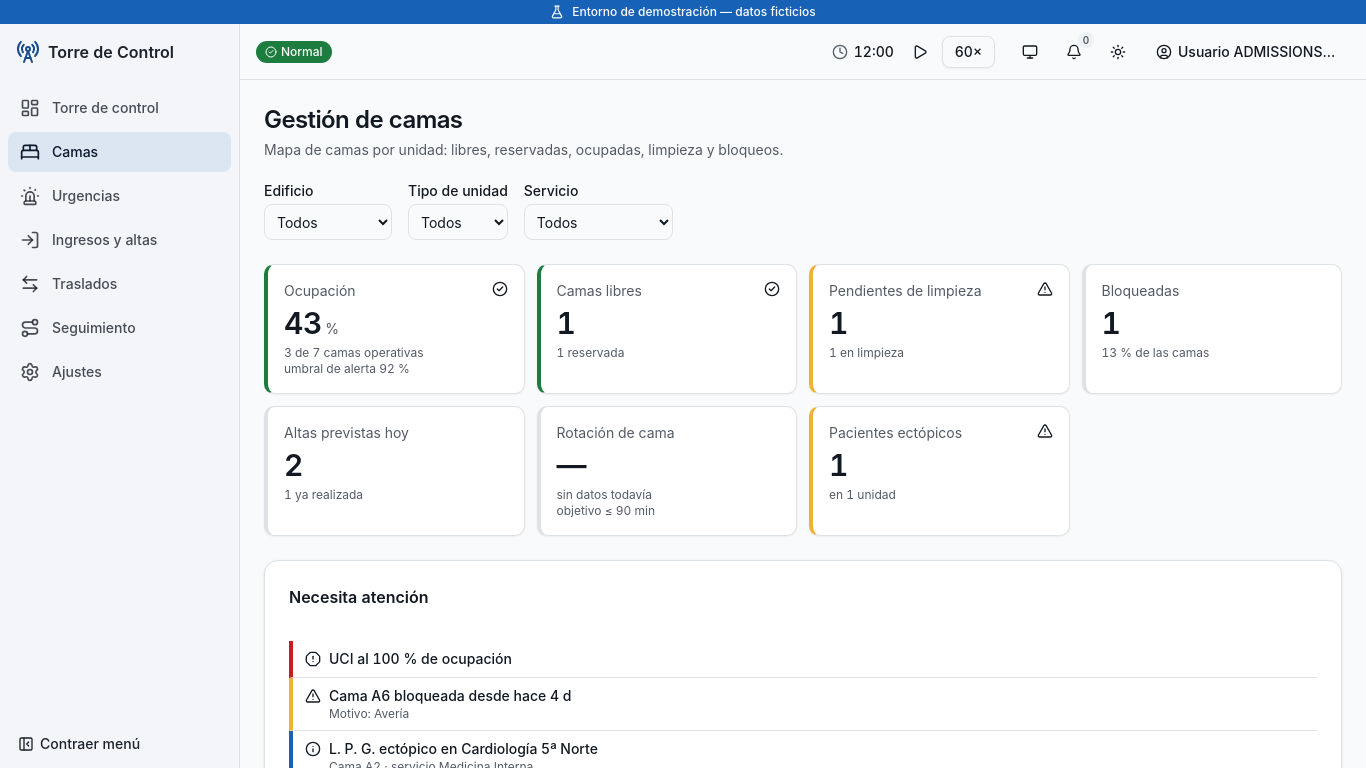
Test: BedsPage (census) › shows a message when no unit matches
The width and height of the screenshot is (1366, 768).
Expected: the list named "Indicadores de camas" is shown, [264,264,1342,536]
Select "Edificio Sur" in the dropdown labelled "Edificio": (328,222) [264,204,392,240]
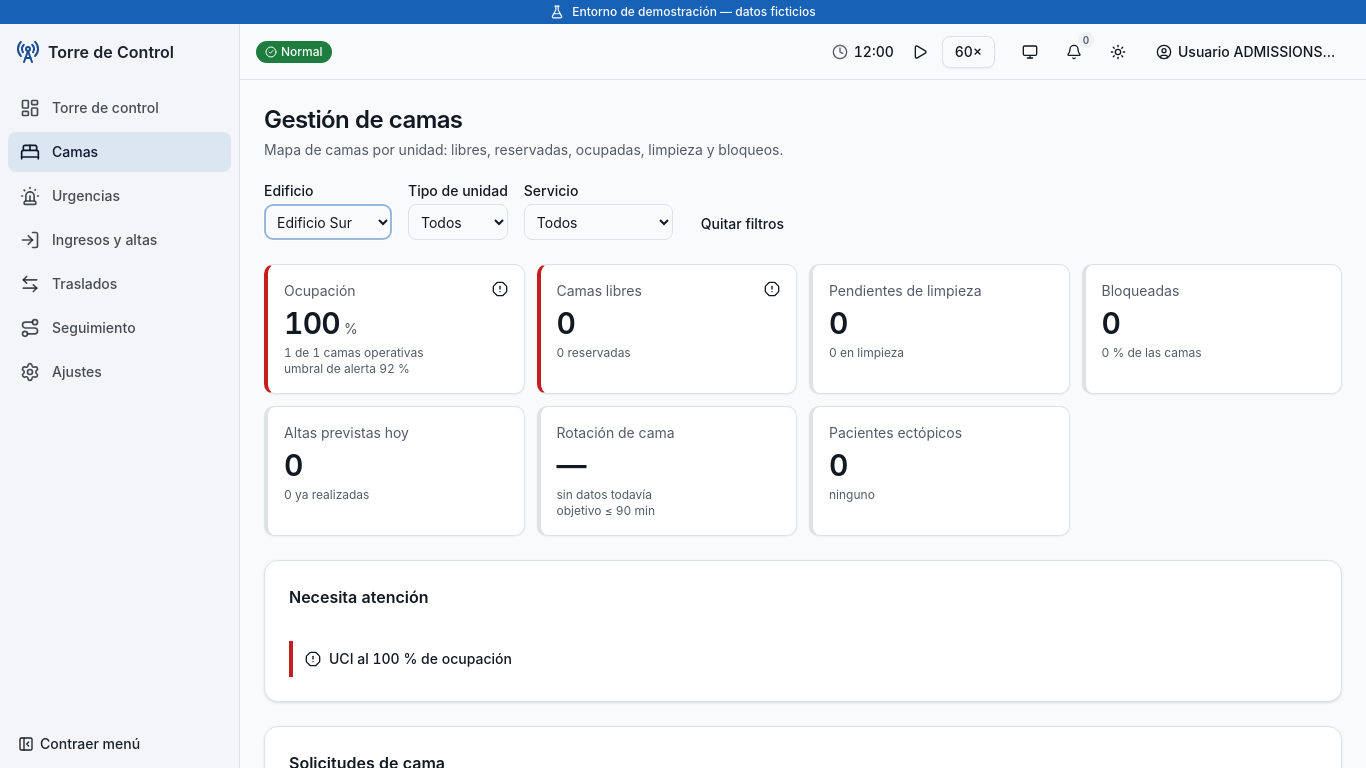
Select "Planta" in the dropdown labelled "Tipo de unidad": (458,222) [408,204,508,240]
(page scrolled)
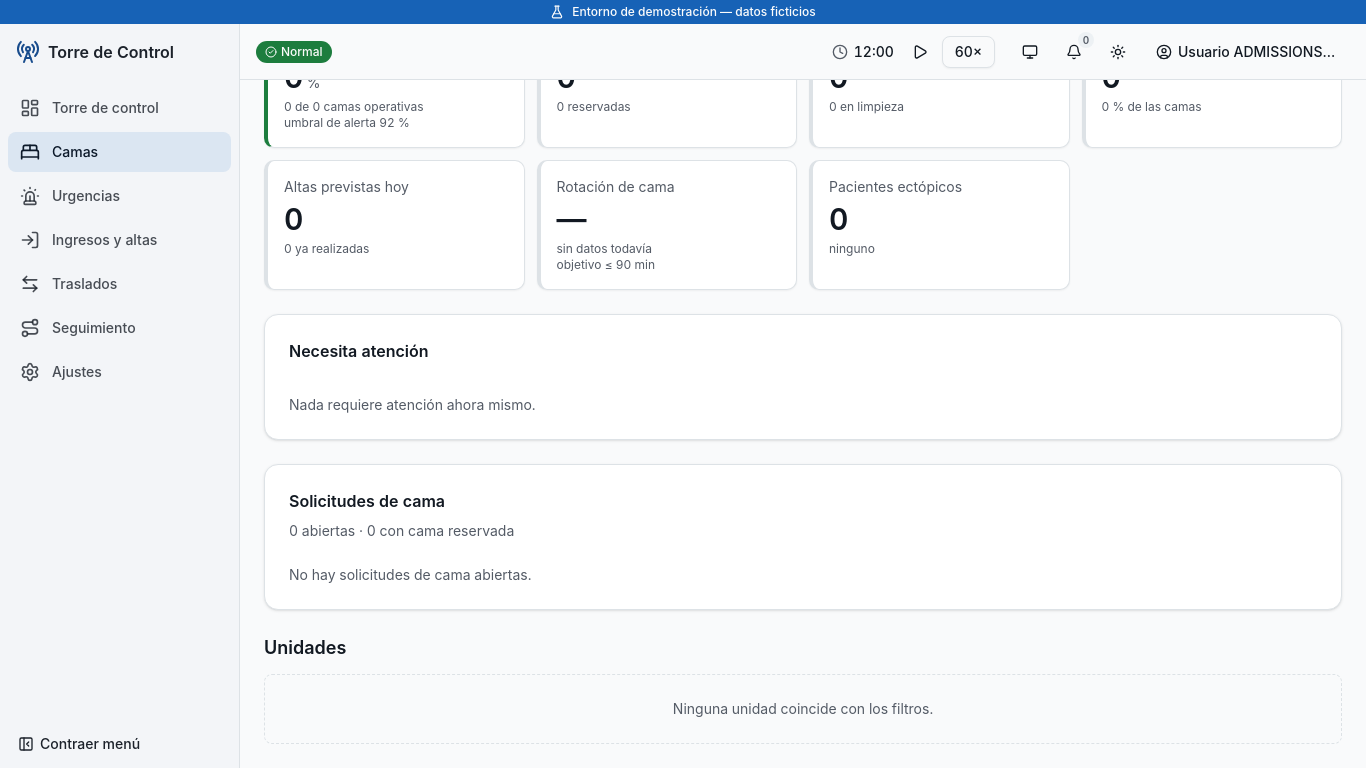
Now the text "Ninguna unidad coincide con los filtros." is shown, box [264,674,1342,744]
